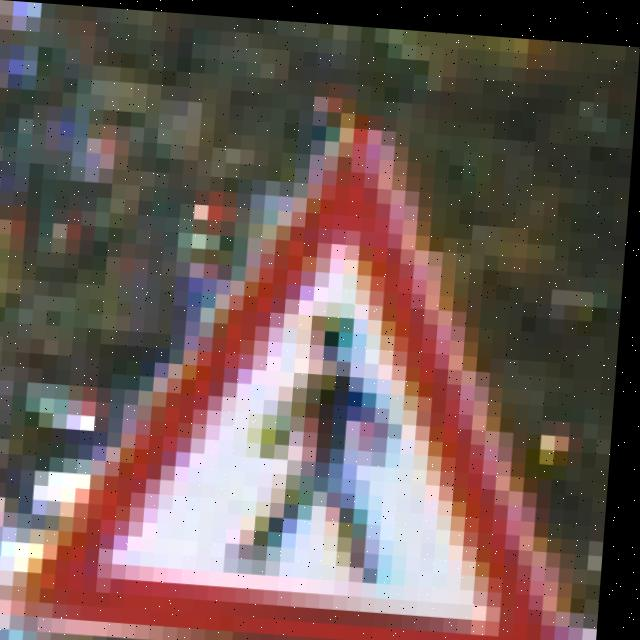crosswalk: (50, 152, 629, 640)
